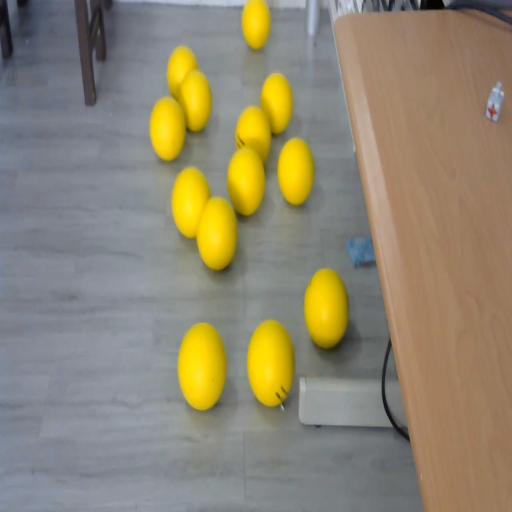FUEL: (176, 320, 228, 410), (247, 319, 295, 407), (302, 266, 350, 348), (196, 195, 239, 271), (226, 147, 266, 216), (277, 137, 315, 206), (149, 96, 186, 160), (179, 69, 213, 132), (260, 72, 294, 134), (242, 0, 271, 50)
